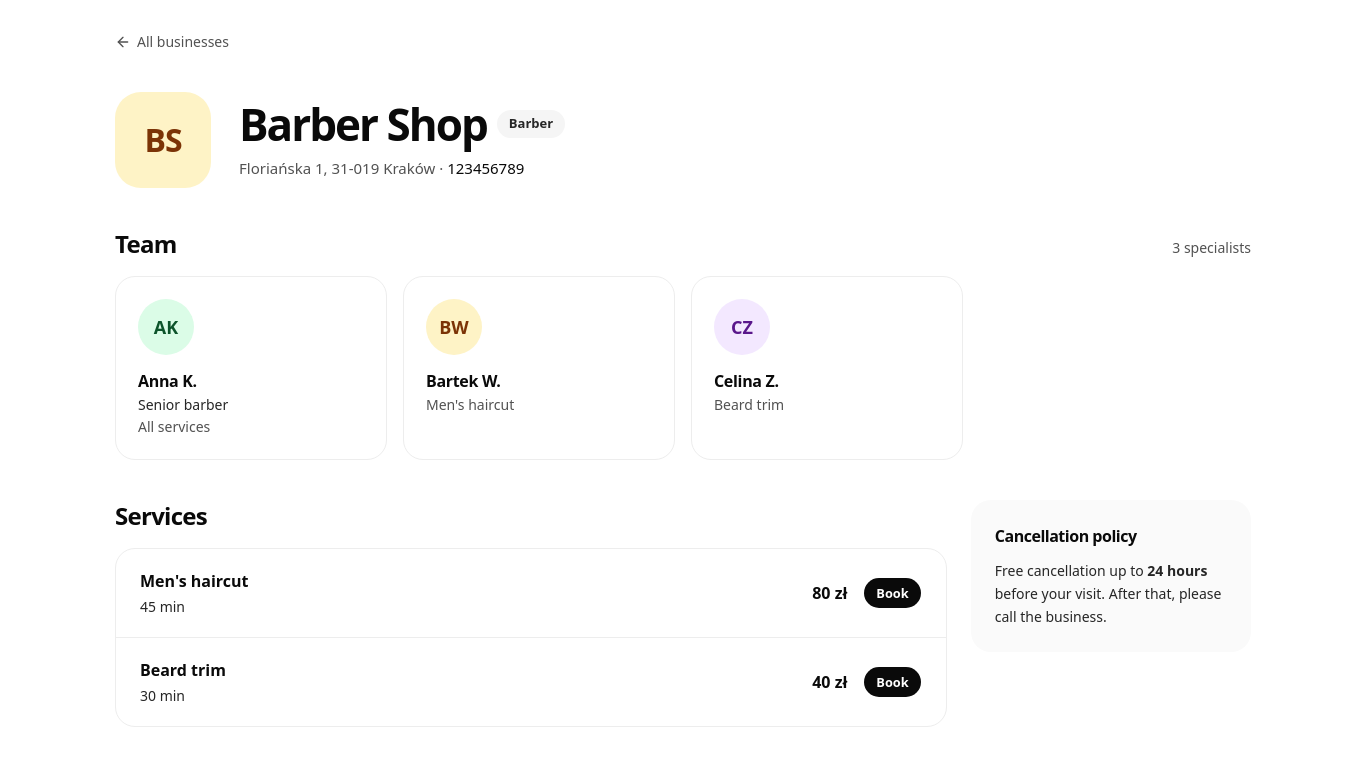
Test: BookingPage › is reached from the Book button on the business page
The image size is (1366, 768).
Click the link with aria-label "Book Men's haircut" at (892, 593), box [863,577,922,609]
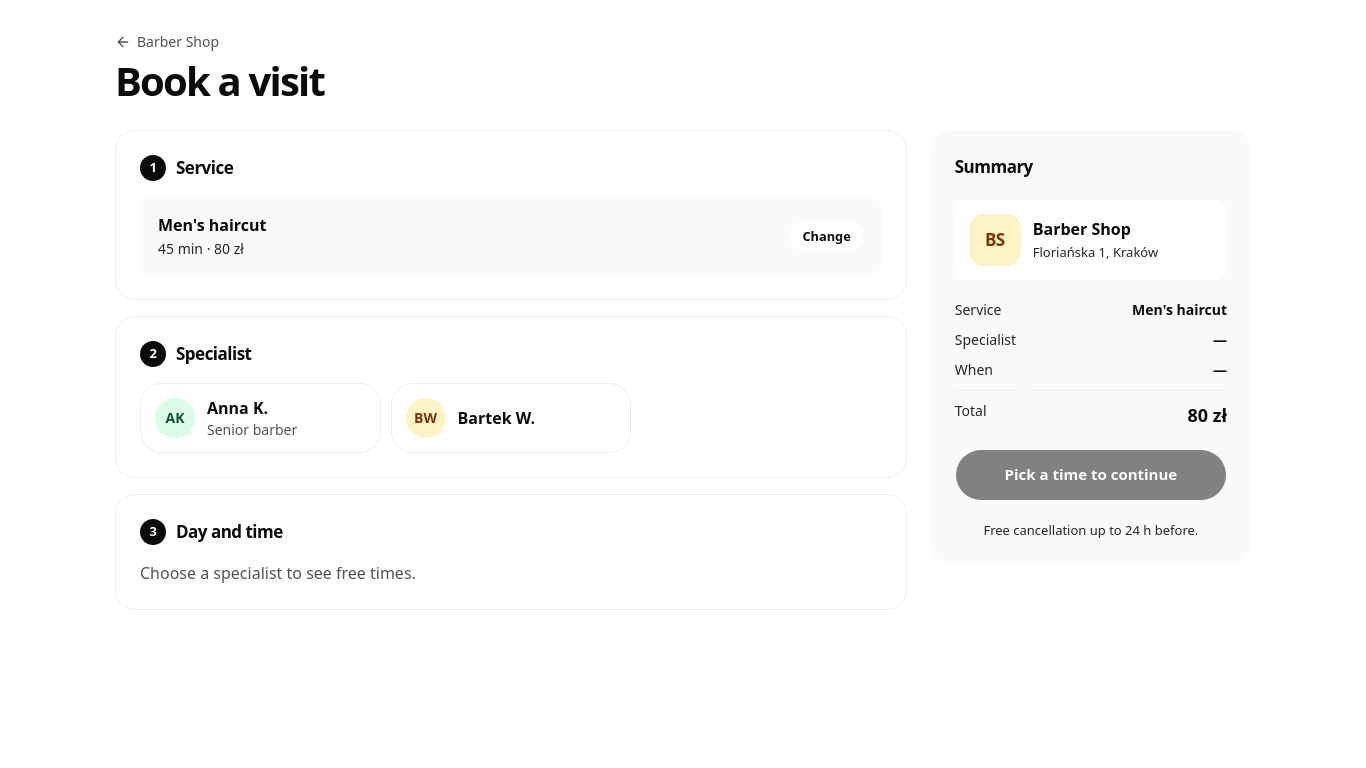
Result: the heading "Book a visit" is shown at [115,53,324,108]
